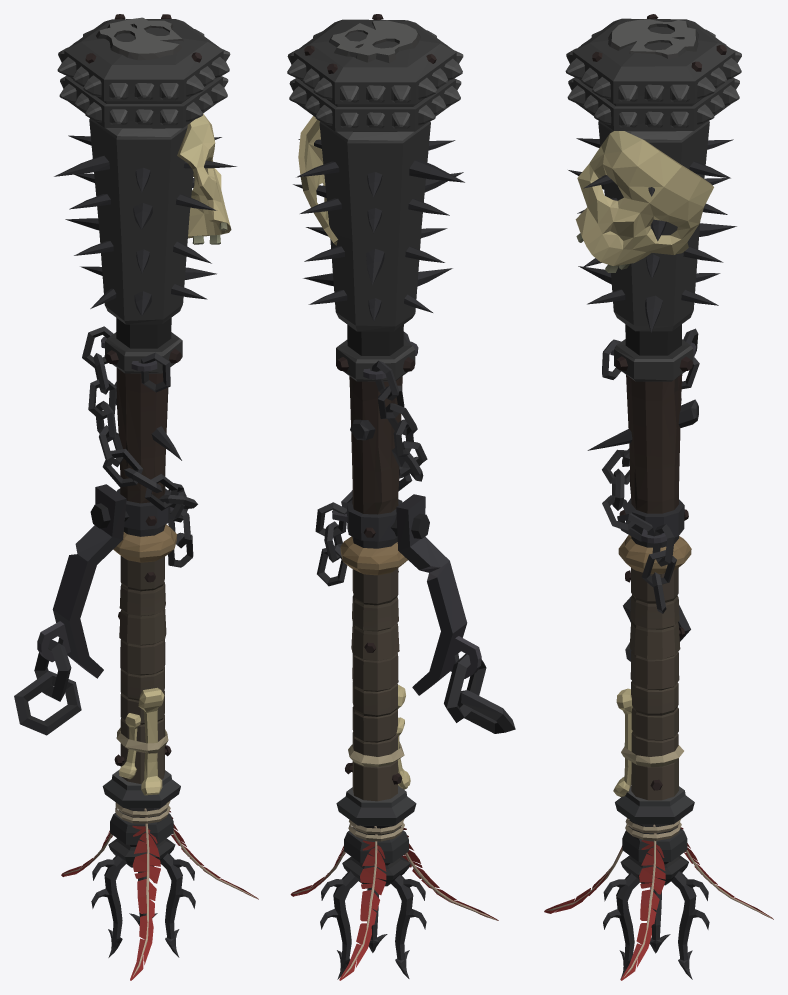
Rendered from bluntLightBarbarianHammer.glb.
3 renders of one model, left to right at view 1: azimuth 30°, elevation 25°; view 2: azimuth 150°, elevation 25°; view 3: azimuth 270°, elevation 25°, orthographic. The views are drawn at different scales.
Parts seen in each view (by area): view 1: bluntLightBarbarianHammer; view 2: bluntLightBarbarianHammer; view 3: bluntLightBarbarianHammer.
Part boxes in pixels (box(x1,y1,x2,y2)): bluntLightBarbarianHammer: box(14, 14, 258, 980); bluntLightBarbarianHammer: box(287, 14, 515, 980); bluntLightBarbarianHammer: box(544, 14, 773, 980).
Size of the model in its own units: 0.2461 by 0.9372 by 0.2088.
